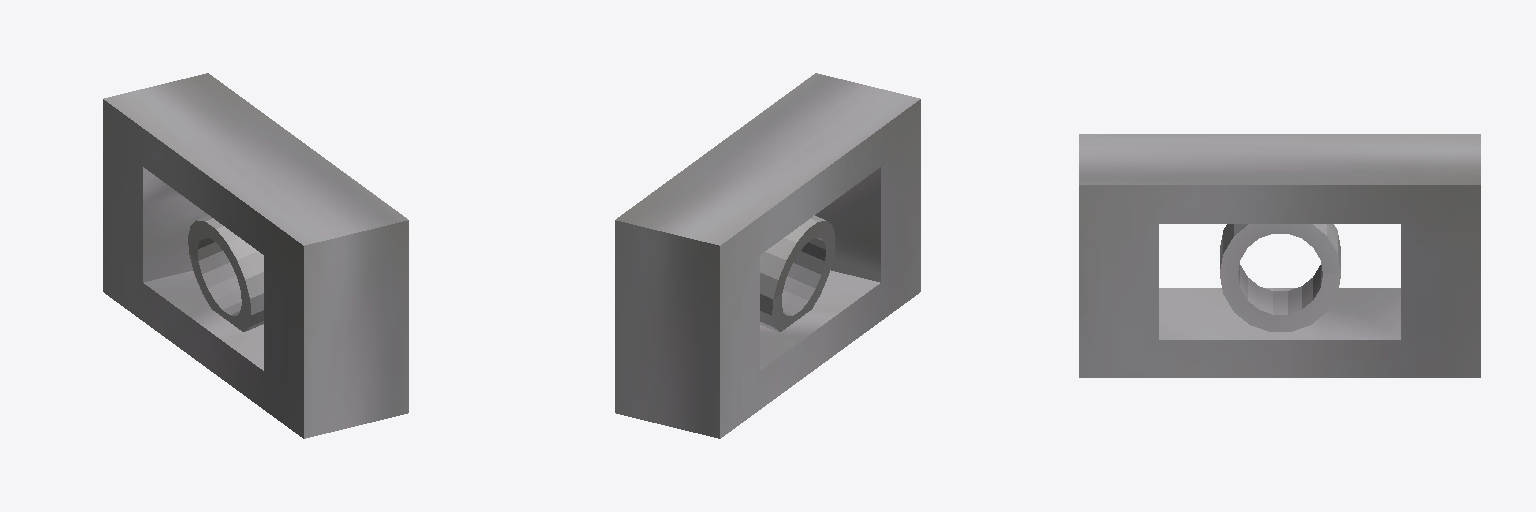
The picture shows the model from 3 angles: view 1: azimuth 30°, elevation 25°; view 2: azimuth 150°, elevation 25°; view 3: azimuth 270°, elevation 25°; orthographic projection.
Visible parts, largest first — view 1: Lanza_Pelotas; view 2: Lanza_Pelotas; view 3: Lanza_Pelotas.
Boxes of the visible parts, box(x1,y1,x2,y2) form: Lanza_Pelotas: box(103, 73, 408, 438); Lanza_Pelotas: box(615, 73, 920, 438); Lanza_Pelotas: box(1079, 134, 1480, 377).
Size of the model in its own units: 3.28 by 5.73 by 10.81.
Materials: 1 (1 with a texture image).